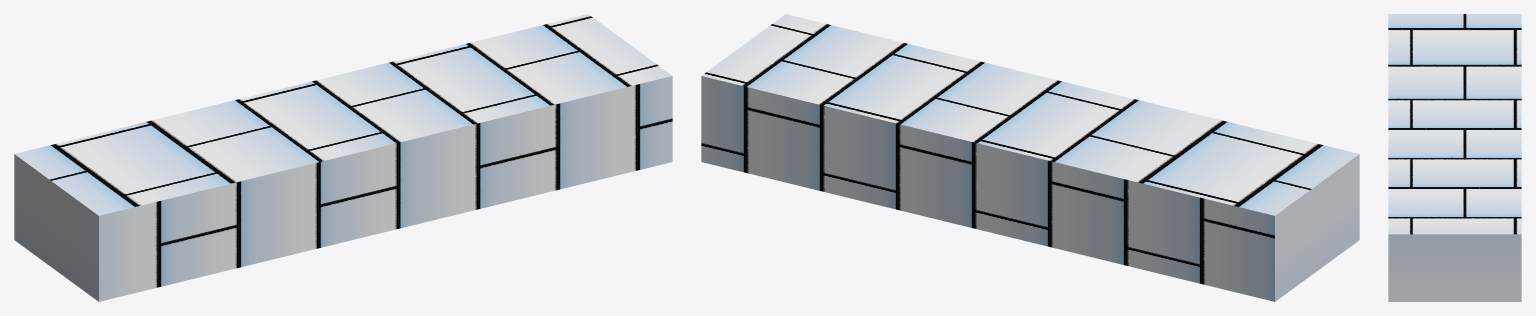
File: TitleWall3.fbx
3 views of the same model, side by side, from view 1: azimuth 30°, elevation 25°; view 2: azimuth 150°, elevation 25°; view 3: azimuth 270°, elevation 25° (orthographic). The views are drawn at different scales.
Visible parts, largest first — view 1: pCube2; view 2: pCube2; view 3: pCube2.
Boxes of the visible parts, box(x1,y1,x2,y2) form: pCube2: box(14, 14, 672, 301); pCube2: box(701, 14, 1359, 301); pCube2: box(1388, 14, 1521, 301).
Size of the model in its own units: 10.89 by 1.56 by 2.78.
